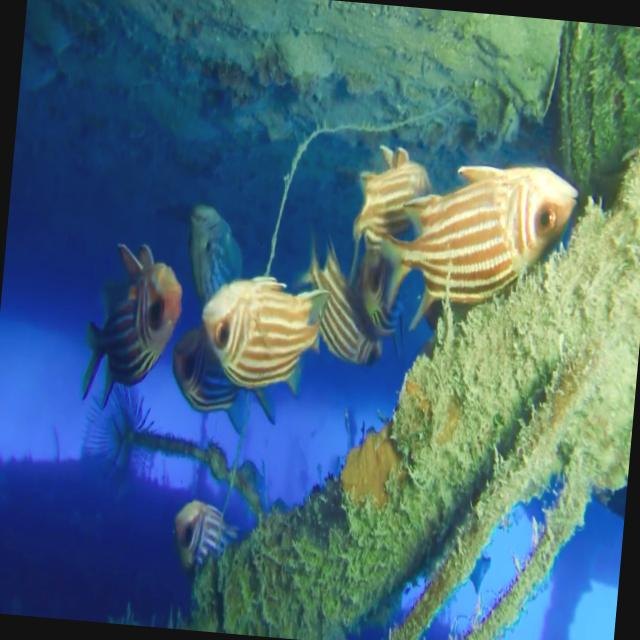Asker Baligi: (368, 148, 582, 346), (78, 236, 187, 418), (200, 275, 344, 400), (168, 474, 226, 592)
